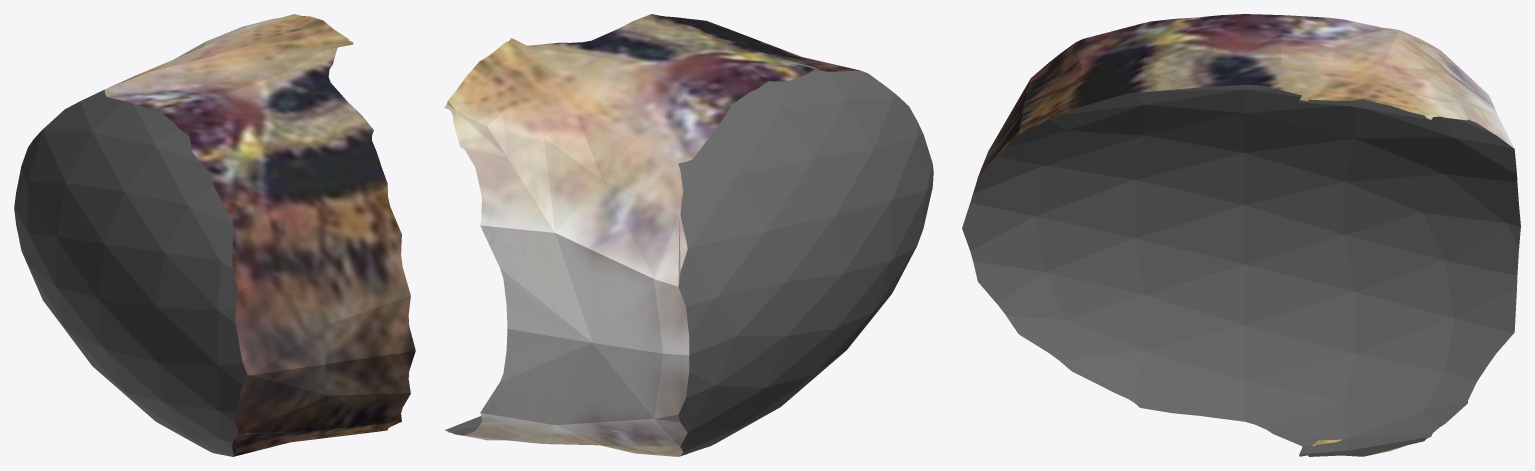
3 views of the same model, side by side, from view 1: azimuth 30°, elevation 25°; view 2: azimuth 150°, elevation 25°; view 3: azimuth 270°, elevation 25° (orthographic). The views are drawn at different scales.
Parts seen in each view (by area): view 1: link_1_visual; view 2: link_1_visual; view 3: link_1_visual.
Boxes of the visible parts, x1=… form: link_1_visual: x1=14, y1=14, x2=415, y2=456; link_1_visual: x1=444, y1=14, x2=933, y2=456; link_1_visual: x1=962, y1=14, x2=1520, y2=456.
Size of the model in its own units: 0.00175 by 0.002 by 0.00284.
1 material, 1 textured.
